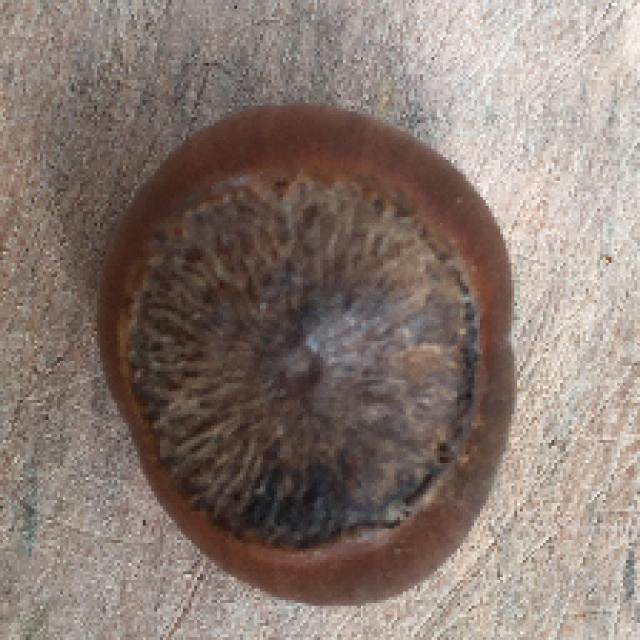qualityHazelnut: (85, 99, 522, 606)
